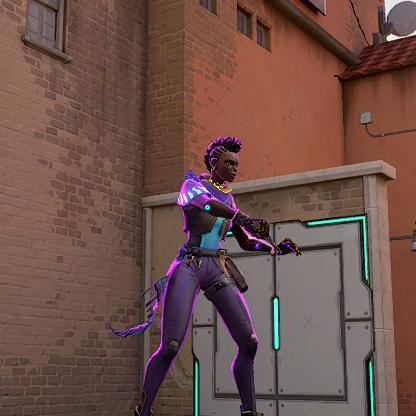enemyBody: (186, 191, 232, 264)
enemyHead: (210, 144, 248, 176)
